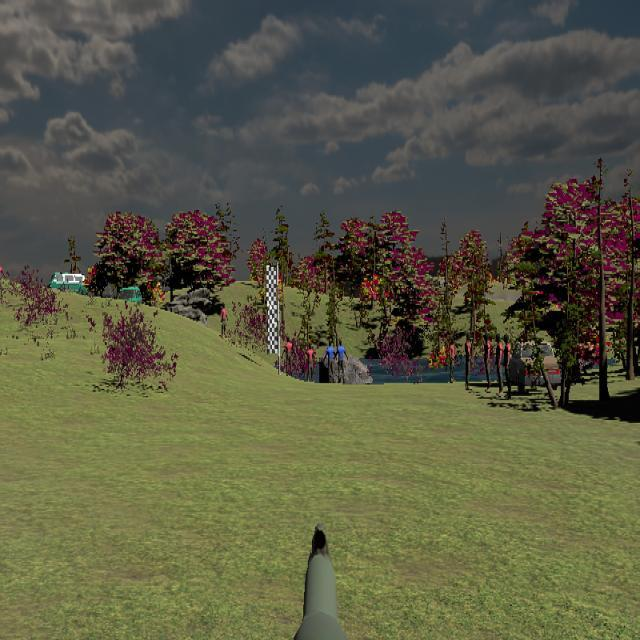Human: (323, 338, 337, 383), (335, 337, 348, 383), (282, 336, 296, 377), (304, 342, 317, 382)
car: (507, 340, 571, 391)
